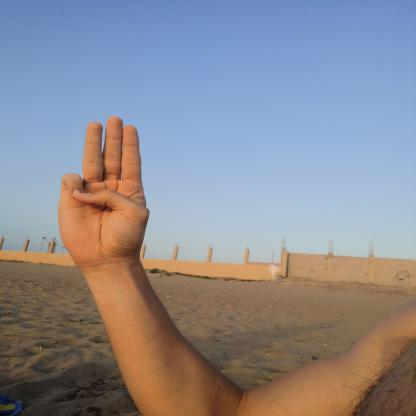THA: (46, 106, 163, 281)
